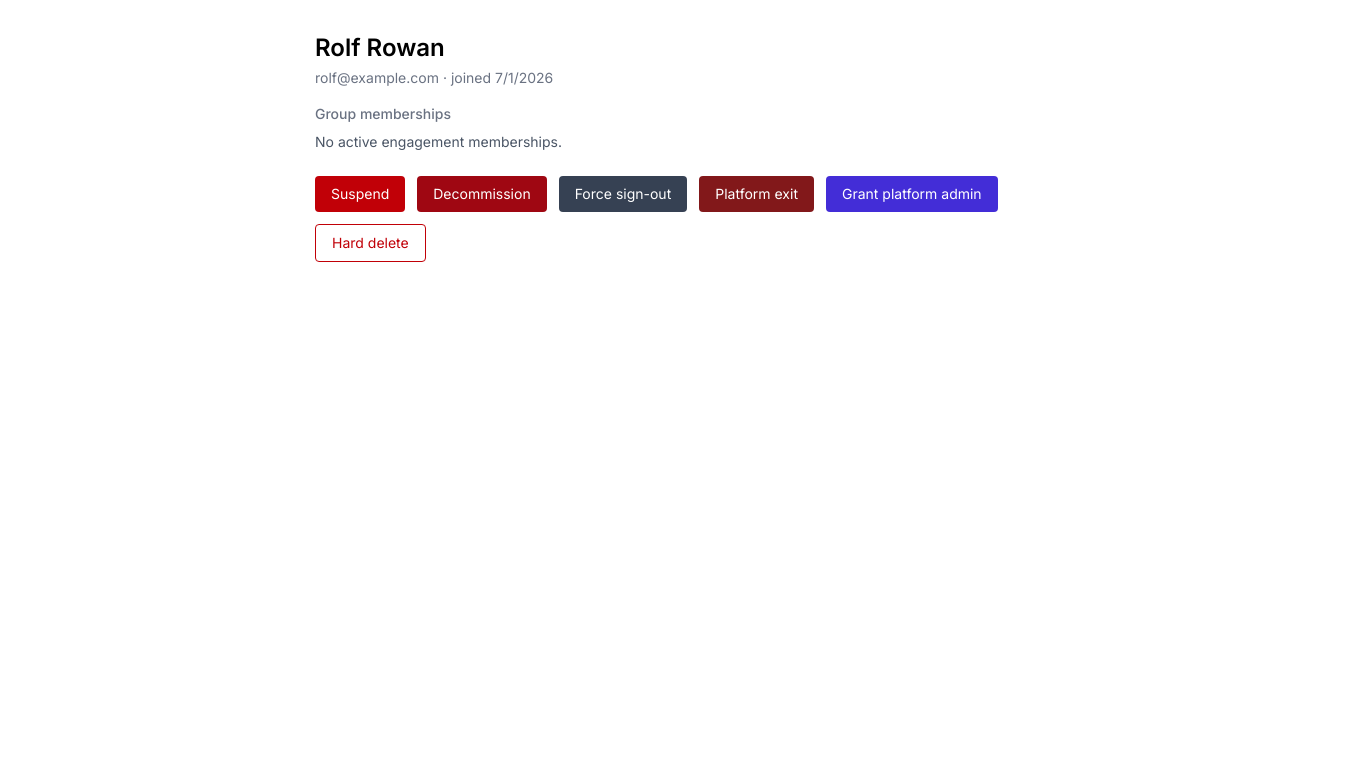
Scenario: AdminMemberDetail — Suspend / Reactivate require the reason (FEAT-H049 STORY-1) › a 400 (the contract's 22023) renders in place and the modal stays open
This screenshot has width=1366, height=768.
Click the button with test id "suspend-member" at (360, 194), box [315,176,405,212]
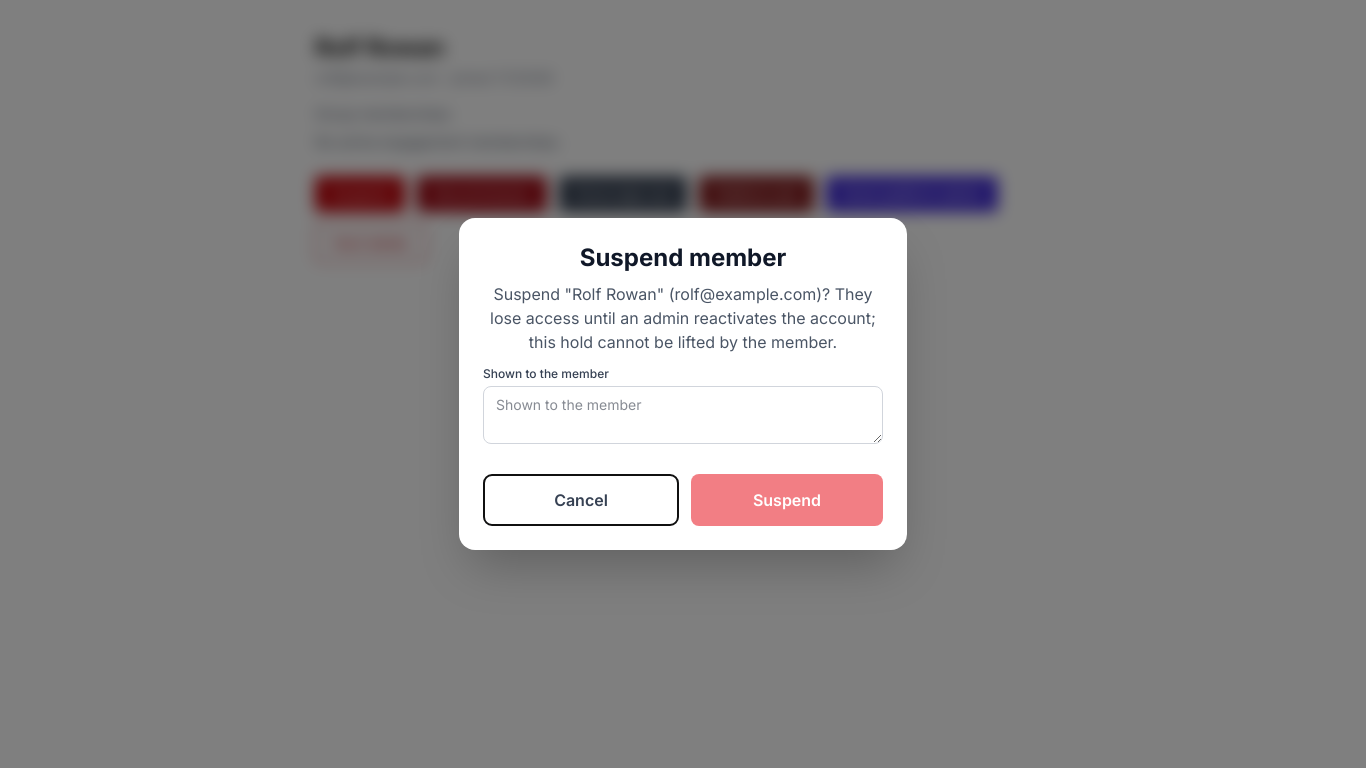
Type "x" into the text box with test id "ceremony-reason" at (683, 415), box [483,386,883,444]
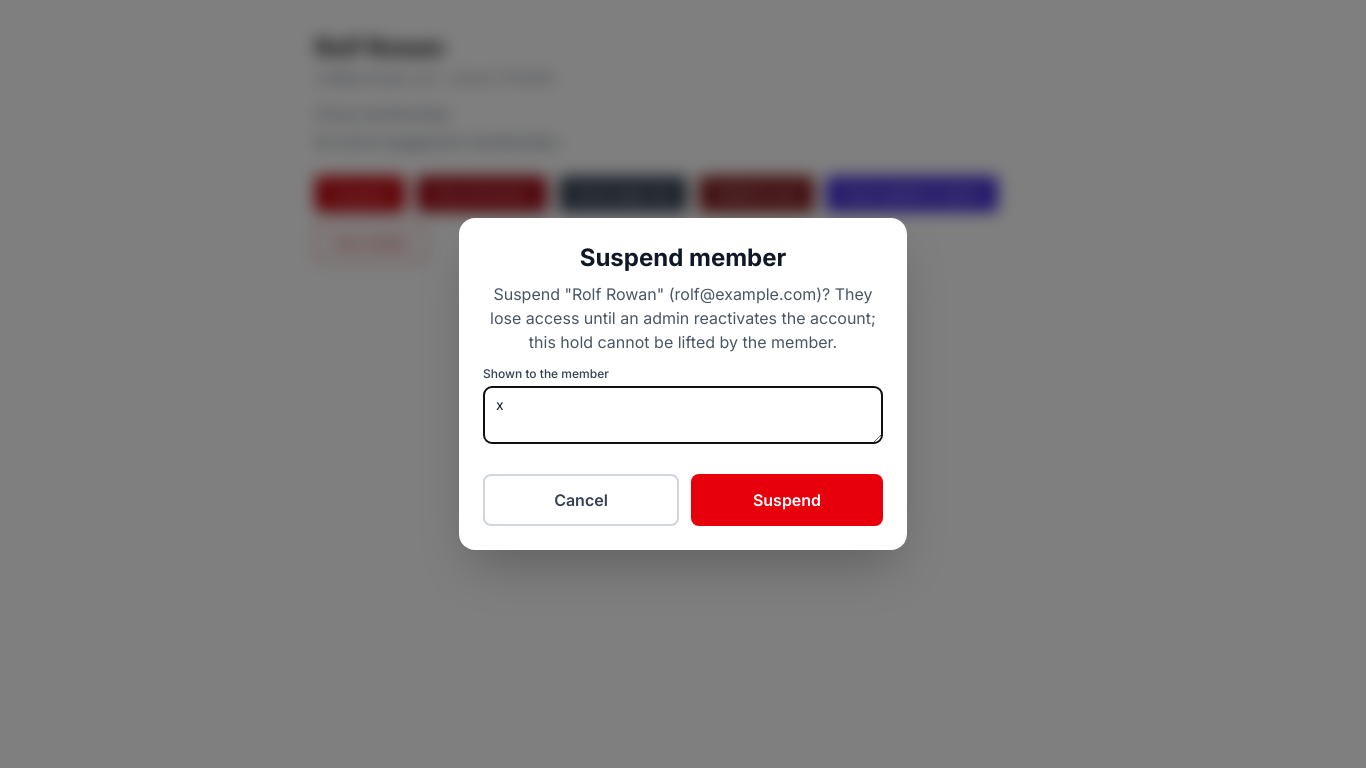
Click the button with test id "confirm-modal-confirm" at (787, 500), box [691,474,883,526]
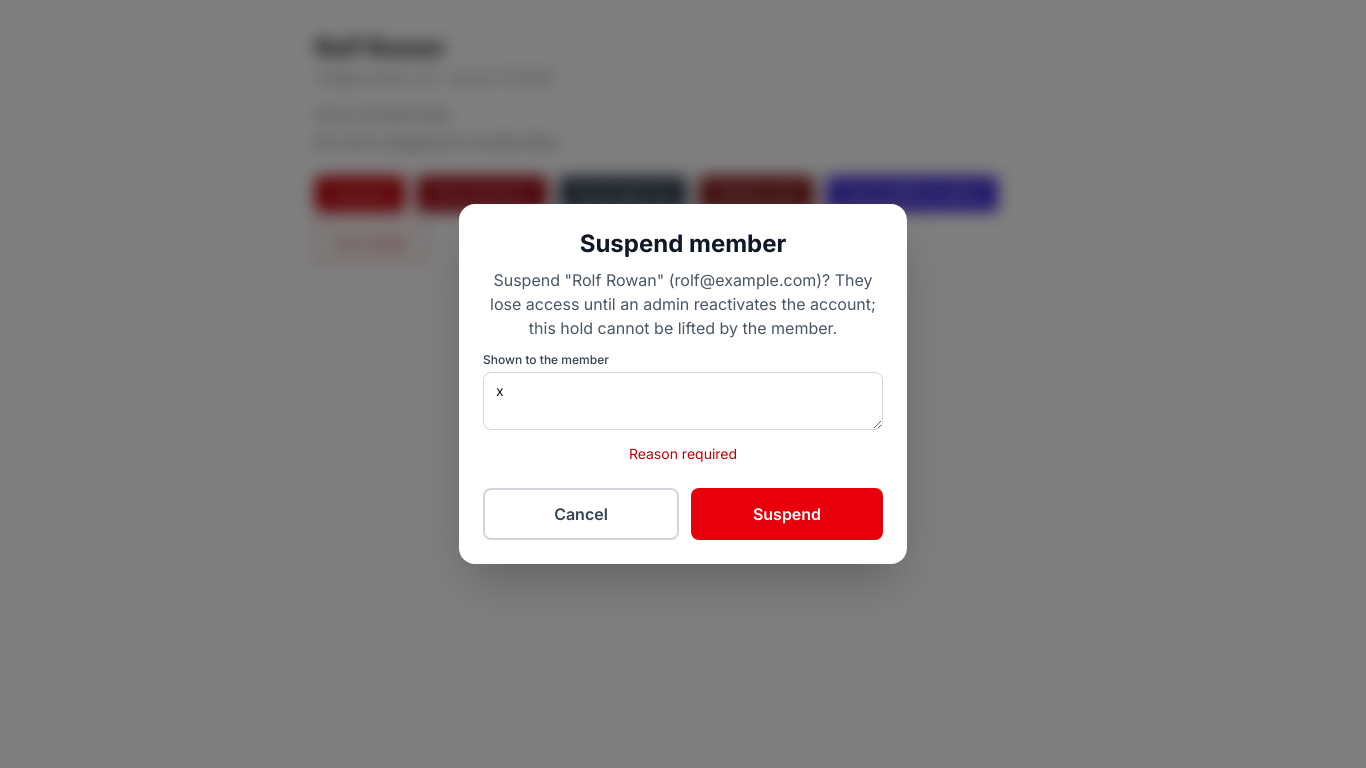
Now the dialog with test id "confirm-modal" is shown
Now the message with test id "ceremony-error" reads "Reason required", box [629,445,737,462]
